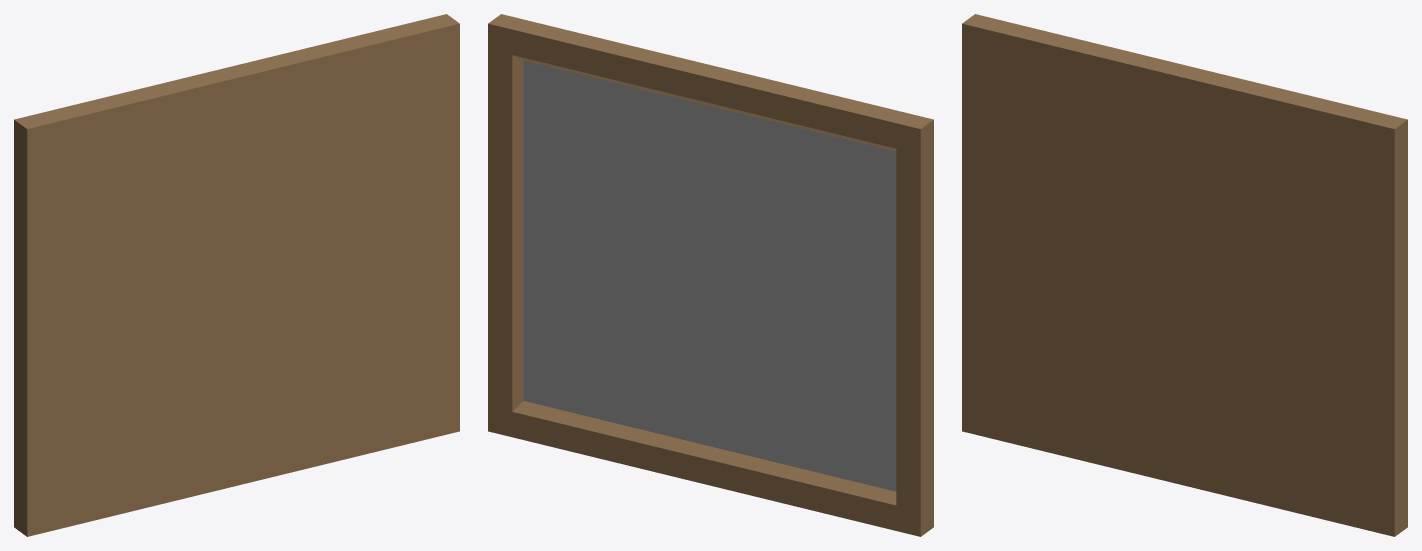
Rendered from pic_2.fbx.
The picture shows the model from 3 angles, left to right: view 1: azimuth 30°, elevation 25°; view 2: azimuth 150°, elevation 25°; view 3: azimuth 330°, elevation 25°; orthographic projection.
Parts seen in each view (by area): view 1: pic_2; view 2: pic_2; view 3: pic_2.
Boxes of the visible parts, left/top/right/bottom form: pic_2: left=14, top=14, right=459, bottom=536; pic_2: left=488, top=14, right=933, bottom=536; pic_2: left=962, top=14, right=1407, bottom=536.
Bounding box in the file's own units: 72.77 × 65.54 × 3.84.
